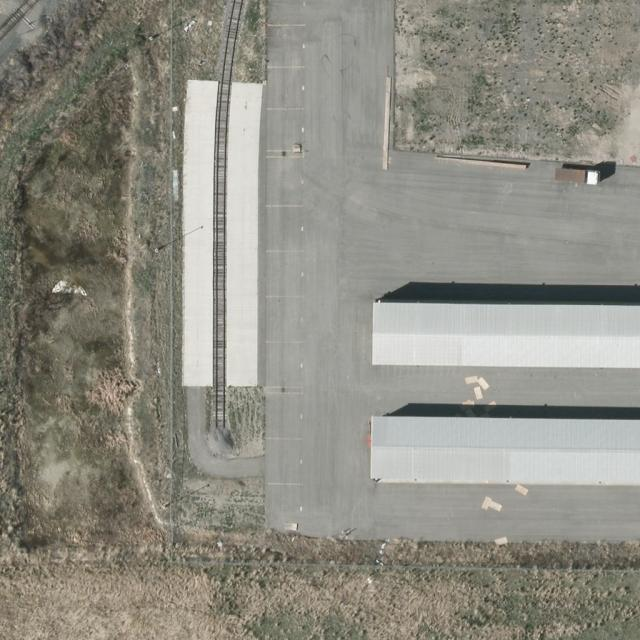vehicle: (554, 166, 602, 186)
